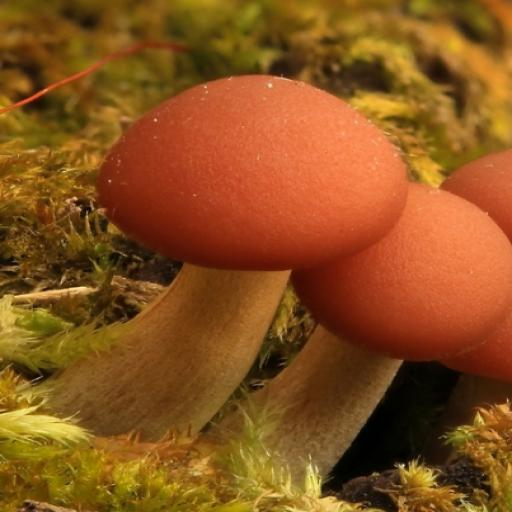mushroom: (92, 69, 512, 432)
